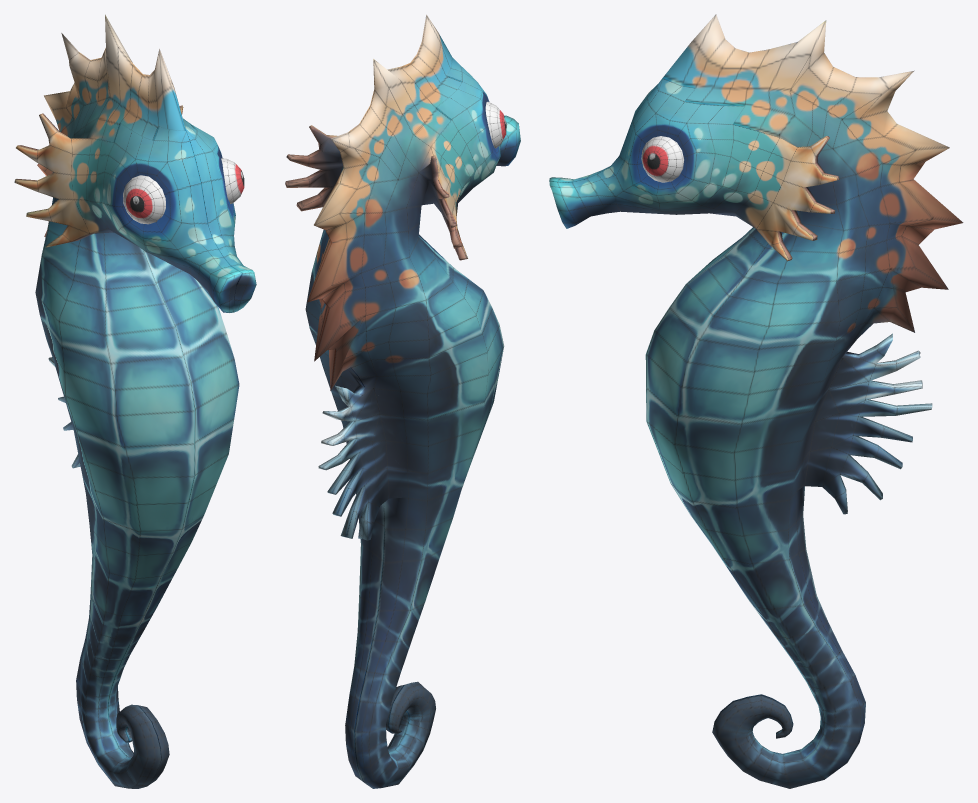
Rendered from seahorse.obj.
3 renders of one model, left to right at view 1: azimuth 30°, elevation 25°; view 2: azimuth 150°, elevation 25°; view 3: azimuth 270°, elevation 25°, orthographic. The views are drawn at different scales.
Visible parts, largest first — view 1: seahorse; view 2: seahorse; view 3: seahorse.
Boxes of the visible parts, left/top/right/bottom form: seahorse: left=14, top=14, right=256, bottom=788; seahorse: left=285, top=14, right=520, bottom=788; seahorse: left=549, top=14, right=963, bottom=788.
Size of the model in its own units: 1.83 by 7.56 by 3.67.
1 material, 1 textured.
